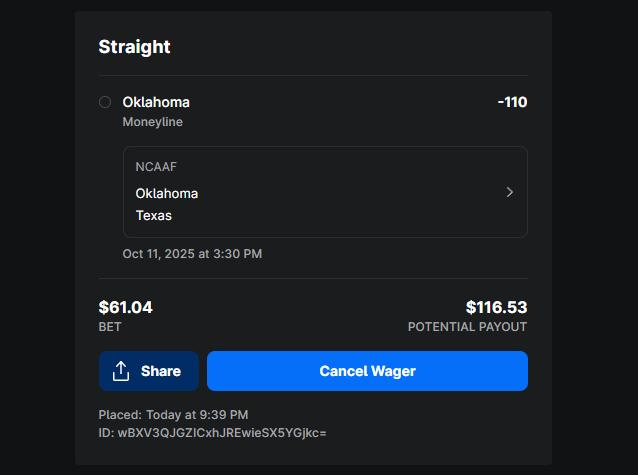game: (134, 187, 201, 223)
odds: (494, 91, 530, 113)
payout: (464, 298, 529, 318)
wager: (97, 298, 154, 317)
